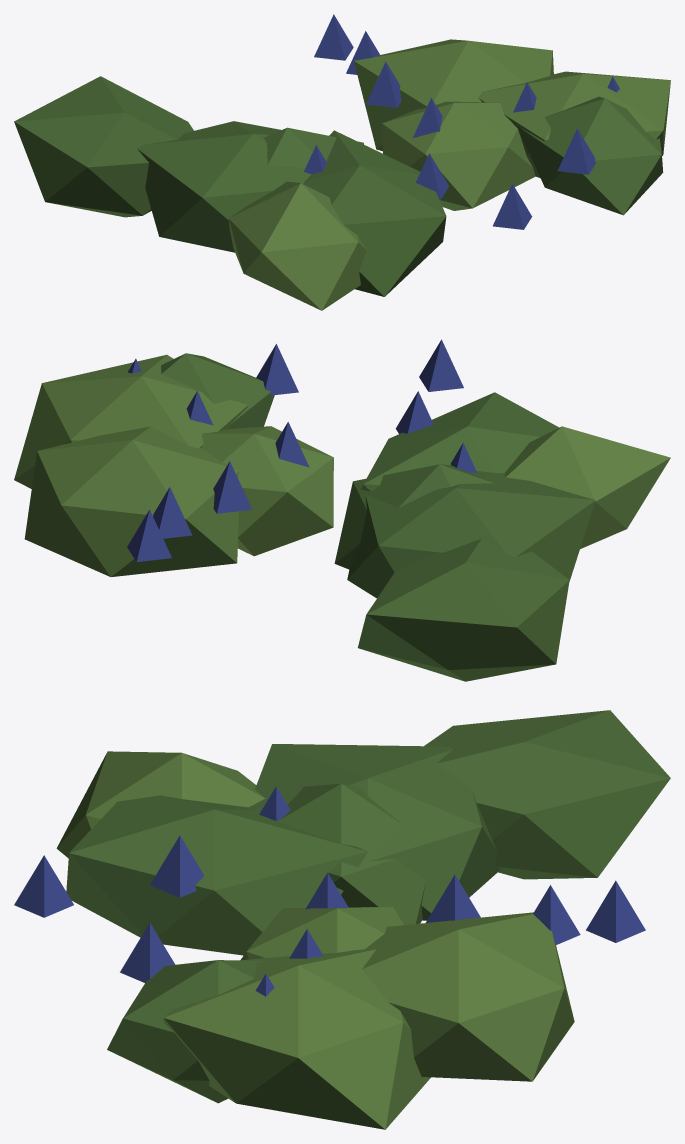
Rendered from blabarsris_2.glb.
3 views of the same model, one above another, from view 1: azimuth 30°, elevation 25°; view 2: azimuth 150°, elevation 25°; view 3: azimuth 270°, elevation 25° (orthographic). The views are drawn at different scales.
Visible parts, largest first — view 1: blabarsris_2; view 2: blabarsris_2; view 3: blabarsris_2.
Part boxes in pixels (bbox=[...]): blabarsris_2: bbox=[14, 14, 670, 310]; blabarsris_2: bbox=[14, 339, 670, 681]; blabarsris_2: bbox=[14, 710, 670, 1129].
Size of the model in its own units: 1.62 by 0.3543 by 1.31.
